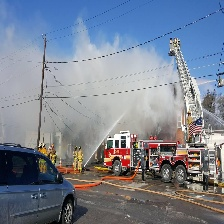smoke: (3, 47, 187, 142)
